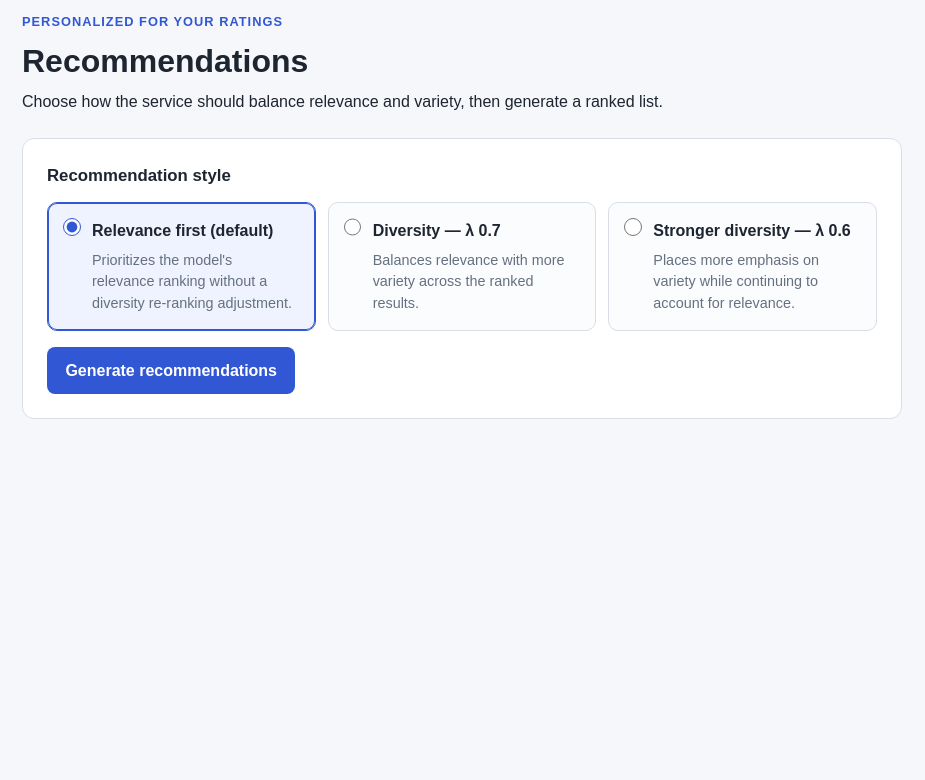
Test case: selects Relevance first \(default\) without requesting and submits only its key
Click the radio button labelled "Relevance first (default)".
click(72, 227)  # box top-left (63, 218), bottom-right (81, 236)
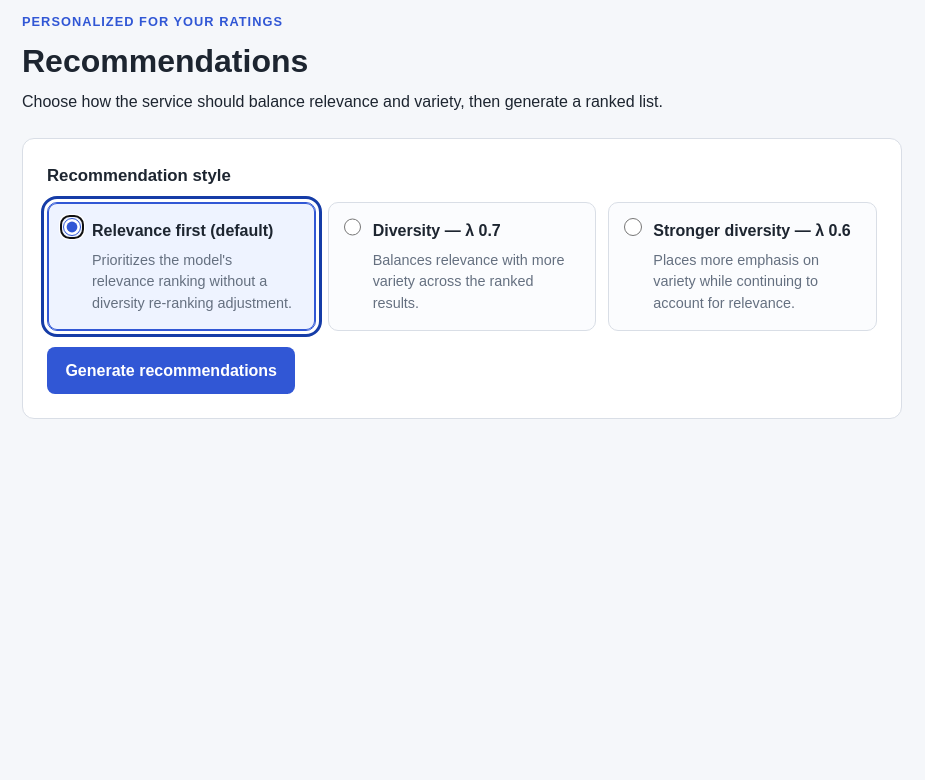
Click the button "Generate recommendations".
click(171, 371)  # box top-left (47, 347), bottom-right (295, 394)
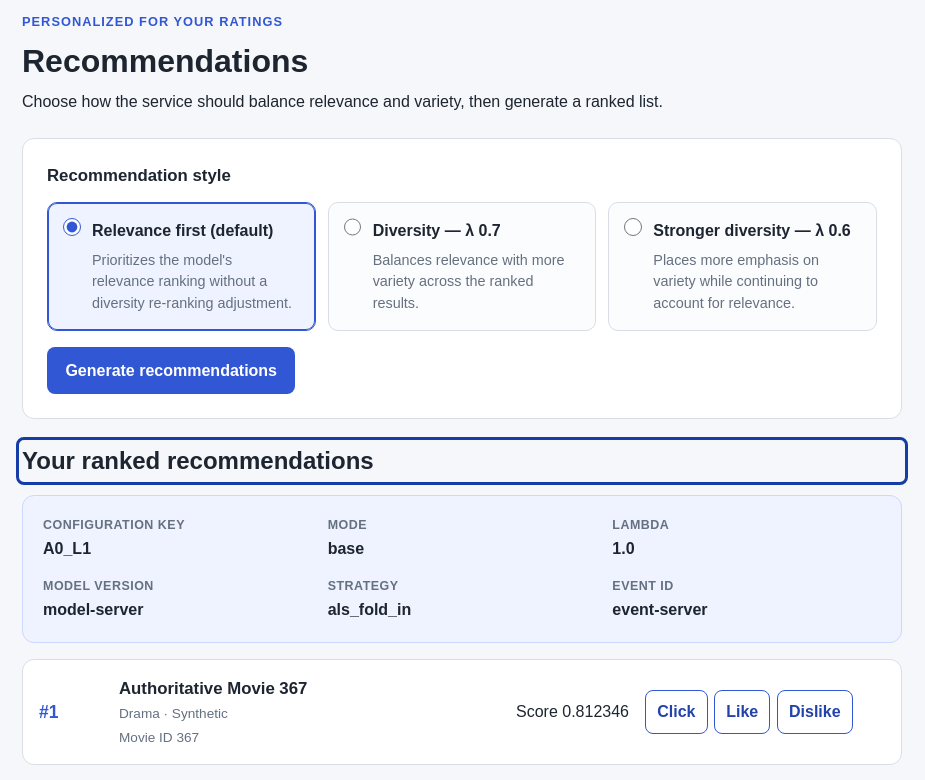
Expected: the text "Movie ID 367" is shown, top-left (119, 730), bottom-right (199, 745)
